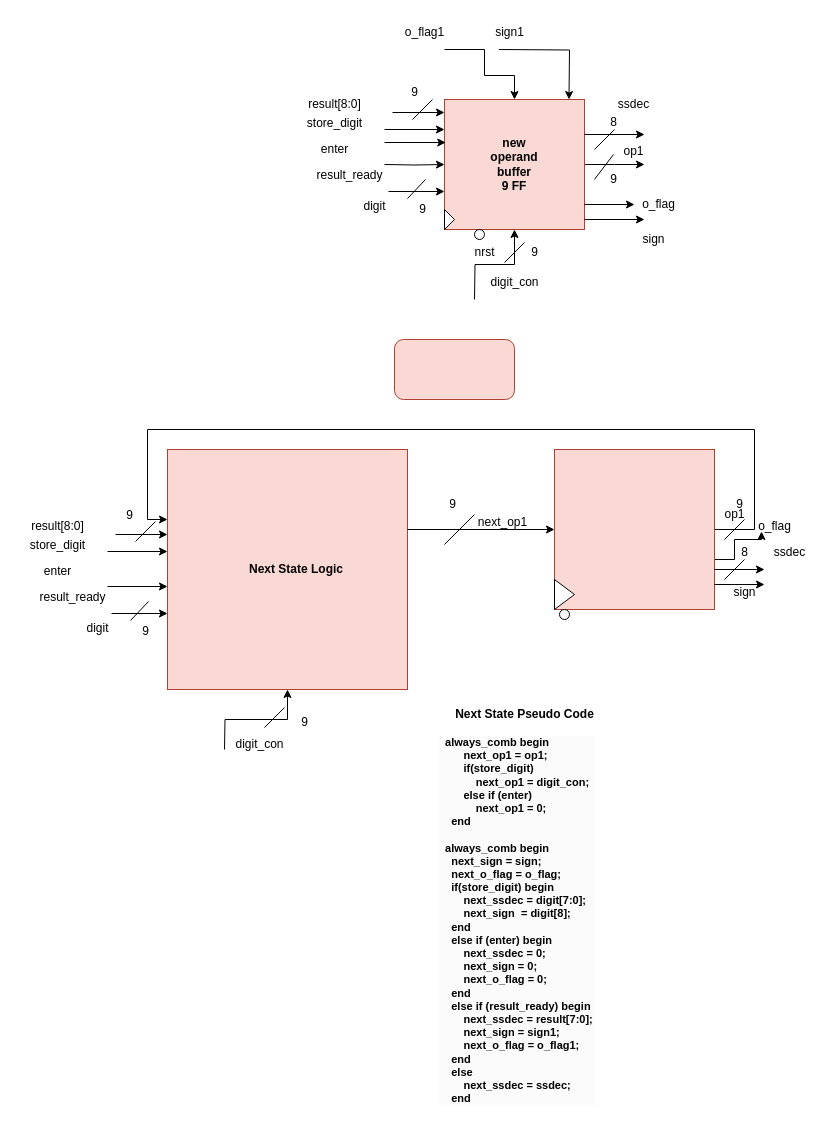
Some shapes in this 831 by 1136 pixel diagram are drawn without their labels. Each missing label, with the box of its shape:
logic [8:0] op1;: (554, 448, 714, 610)
new operand buffer: (394, 338, 514, 400)
